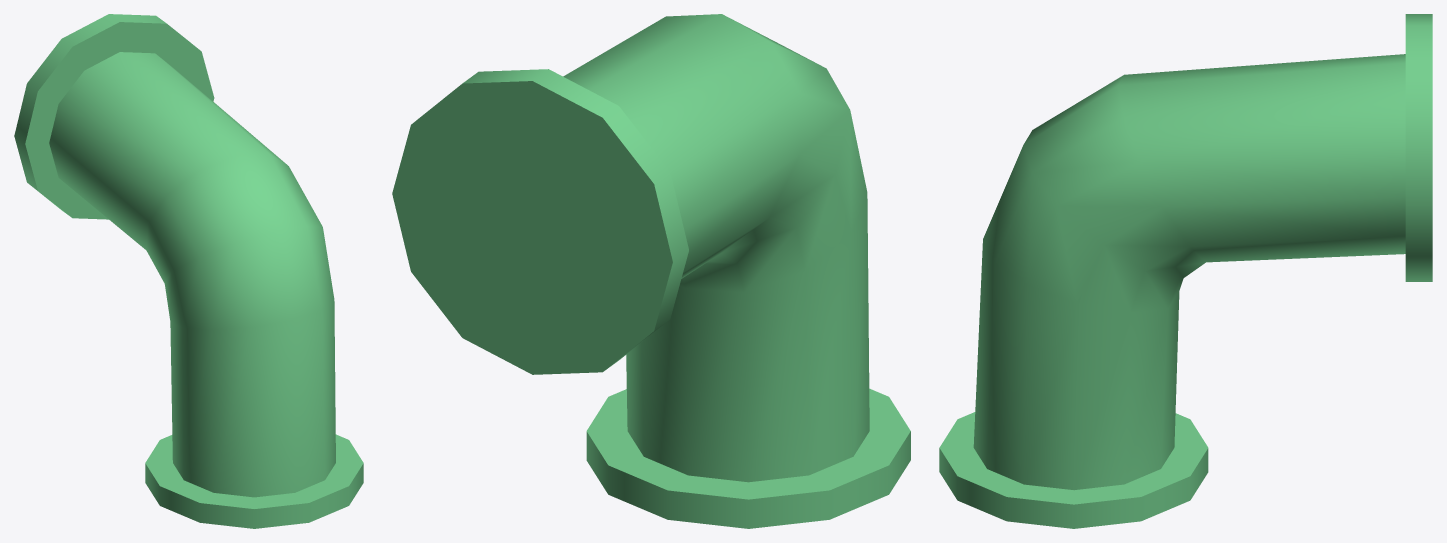
Rendered from Pipe_Basic_Bend90.fbx.
The picture shows the model from 3 angles, left to right: view 1: azimuth 30°, elevation 25°; view 2: azimuth 150°, elevation 25°; view 3: azimuth 270°, elevation 25°; orthographic projection. The views are drawn at different scales.
Visible parts, largest first — view 1: Pipe_Basic_Bend90; view 2: Pipe_Basic_Bend90; view 3: Pipe_Basic_Bend90.
Part boxes in pixels (x1,y1,x2,y2): Pipe_Basic_Bend90: [14, 14, 363, 528]; Pipe_Basic_Bend90: [392, 14, 910, 528]; Pipe_Basic_Bend90: [939, 14, 1432, 528].
Size of the model in its own units: 75 by 137 by 137.
